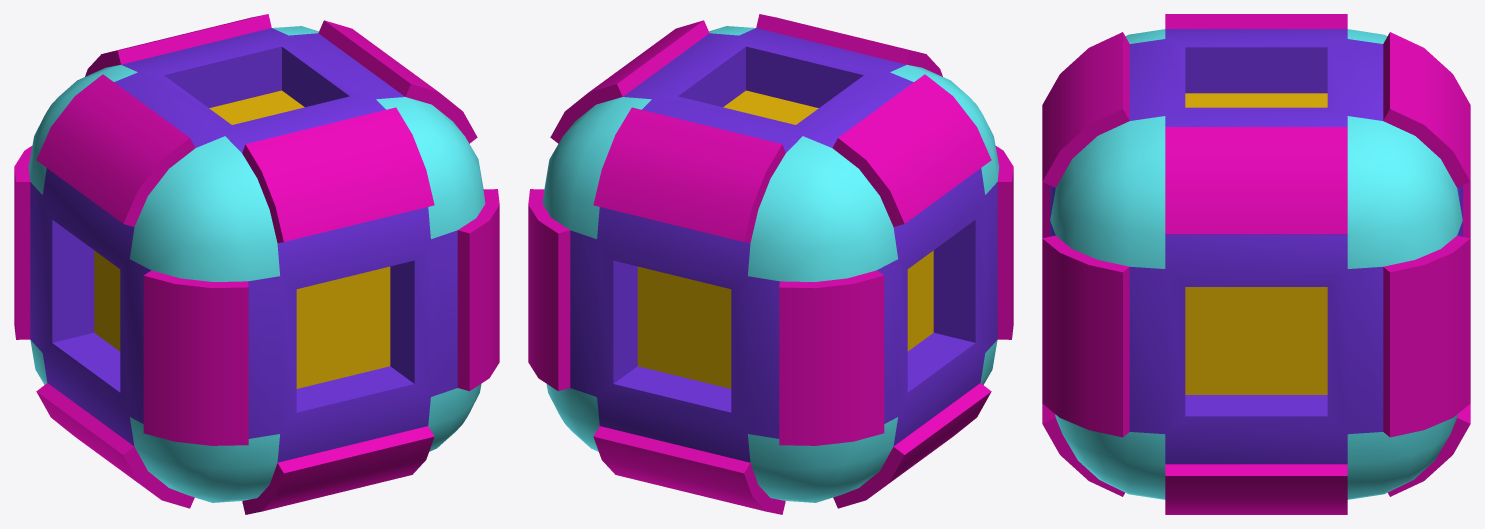
Rendered from emp.fbx.
3 views of the same model, side by side, from view 1: azimuth 30°, elevation 25°; view 2: azimuth 150°, elevation 25°; view 3: azimuth 270°, elevation 25° (orthographic). The views are drawn at different scales.
Parts seen in each view (by area): view 1: Cube; view 2: Cube; view 3: Cube.
Boxes of the visible parts, box(x1,y1,x2,y2) form: Cube: box(14, 14, 499, 514); Cube: box(528, 14, 1013, 514); Cube: box(1042, 14, 1470, 514).
Size of the model in its own units: 208 by 208 by 208.
